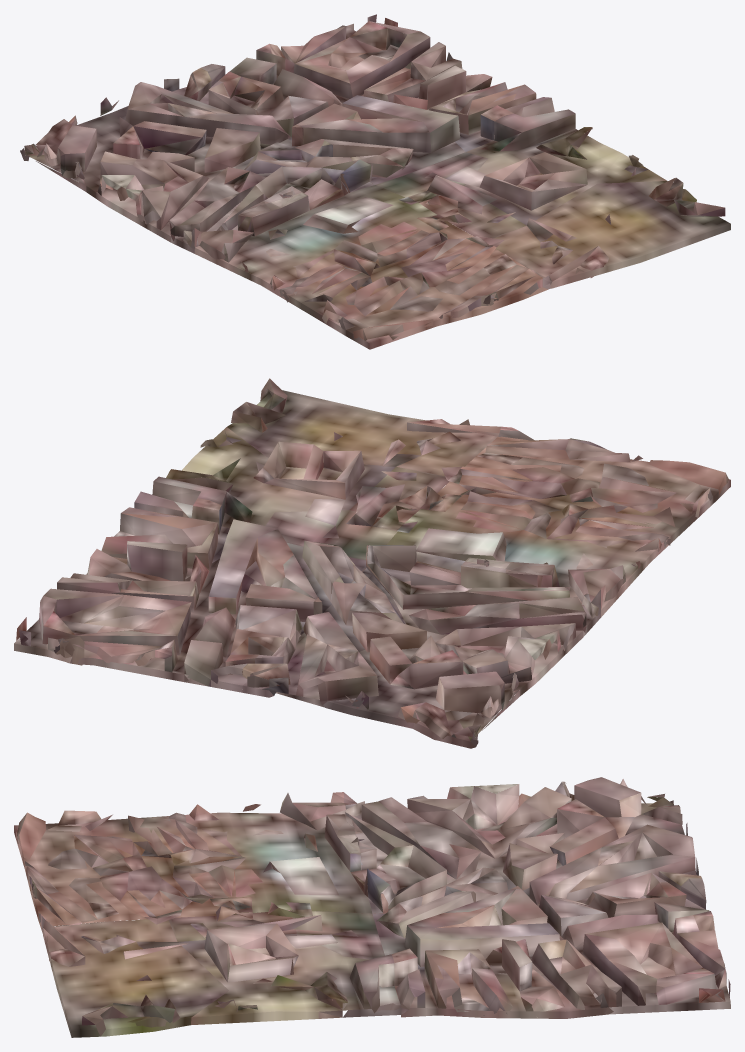
The picture shows the model from 3 angles, top to bottom: view 1: azimuth 30°, elevation 25°; view 2: azimuth 150°, elevation 25°; view 3: azimuth 270°, elevation 25°; orthographic projection. The views are drawn at different scales.
Visible parts, largest first — view 1: Mesh_0; view 2: Mesh_0; view 3: Mesh_0.
Boxes of the visible parts, left/top/right/bottom form: Mesh_0: left=20, top=14, right=730, bottom=349; Mesh_0: left=14, top=378, right=730, bottom=748; Mesh_0: left=14, top=777, right=730, bottom=1037.
Size of the model in its own units: 540 by 54.58 by 659.
2 materials, 2 textured.
